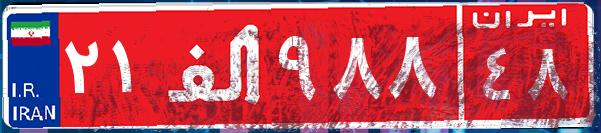1: (110, 28, 158, 105)
2: (57, 26, 110, 107)
4: (475, 38, 525, 113)
8: (385, 28, 445, 110), (330, 28, 385, 110), (525, 38, 570, 115)
9: (273, 28, 330, 110)
الف: (158, 15, 273, 115)
